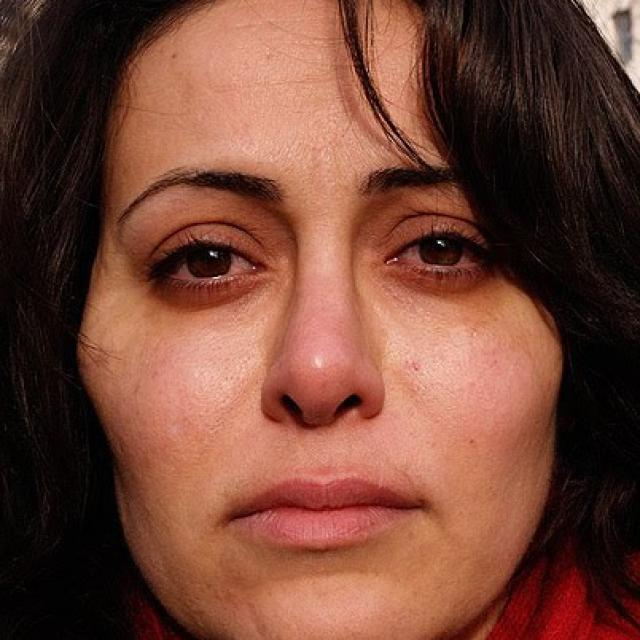Depress: (73, 0, 576, 638)
